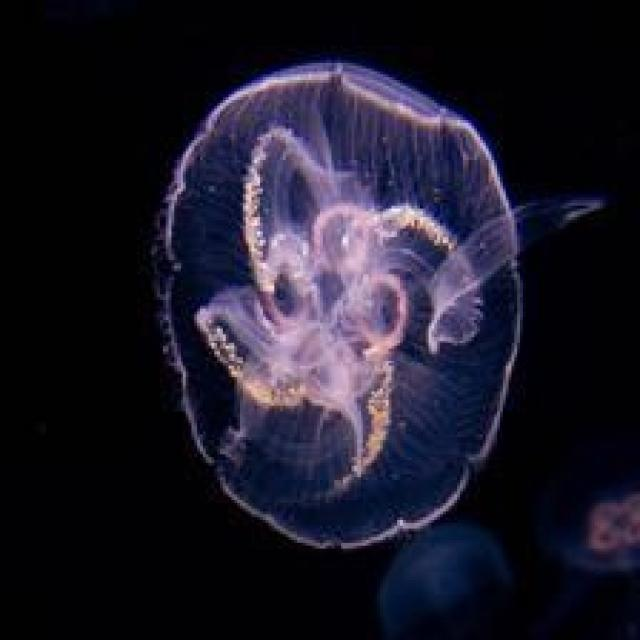Moon-jellyfish: (134, 51, 545, 556)
